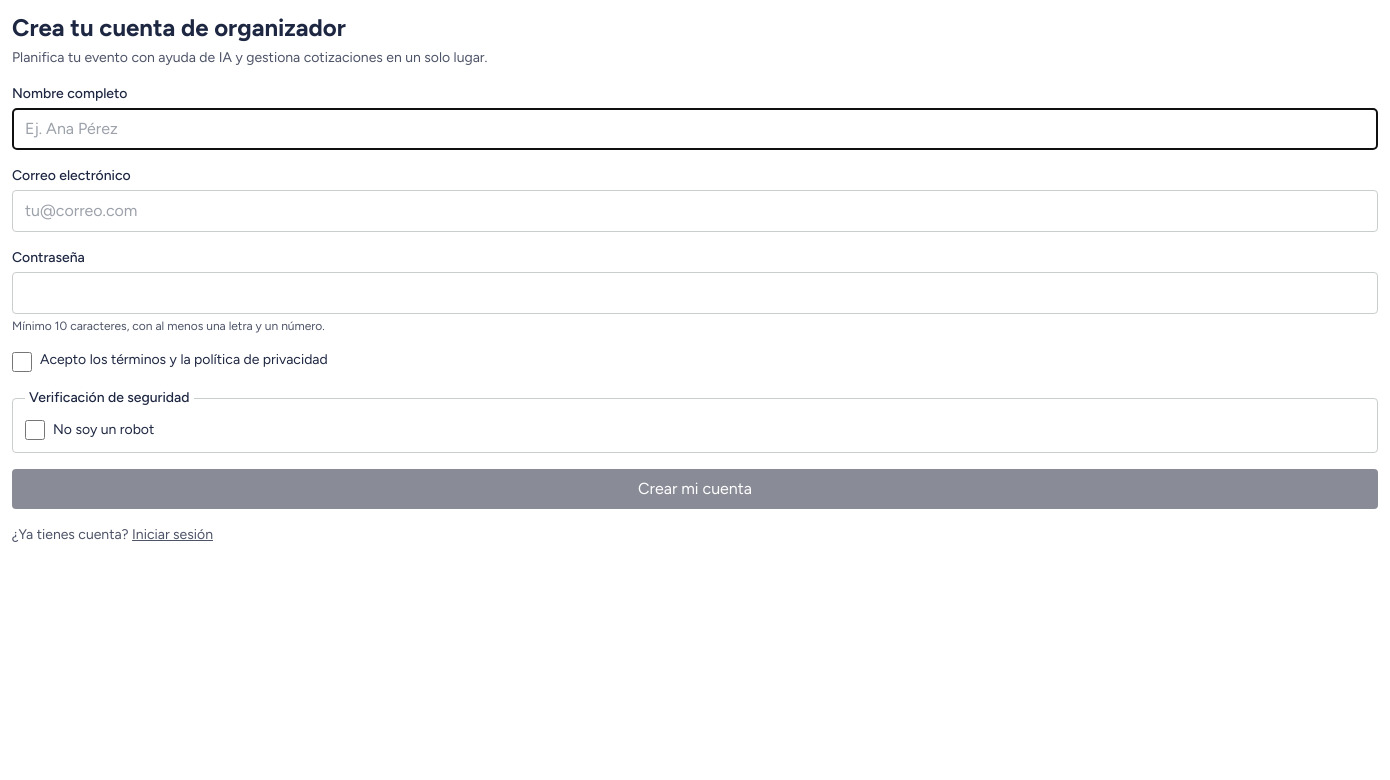
Test case: US-001 FE-002/FE-003 — estados y validación › submit deshabilitado hasta resolver el captcha (EC-01 preventivo)
Expected: the button "Crear mi cuenta" is disabled, [12,469,1378,509]
What coordinates should you click on to do the following:
click the checkbox labelled "No soy un robot"
I would click on:
 (35, 430)
Its box is [25,420,45,440].
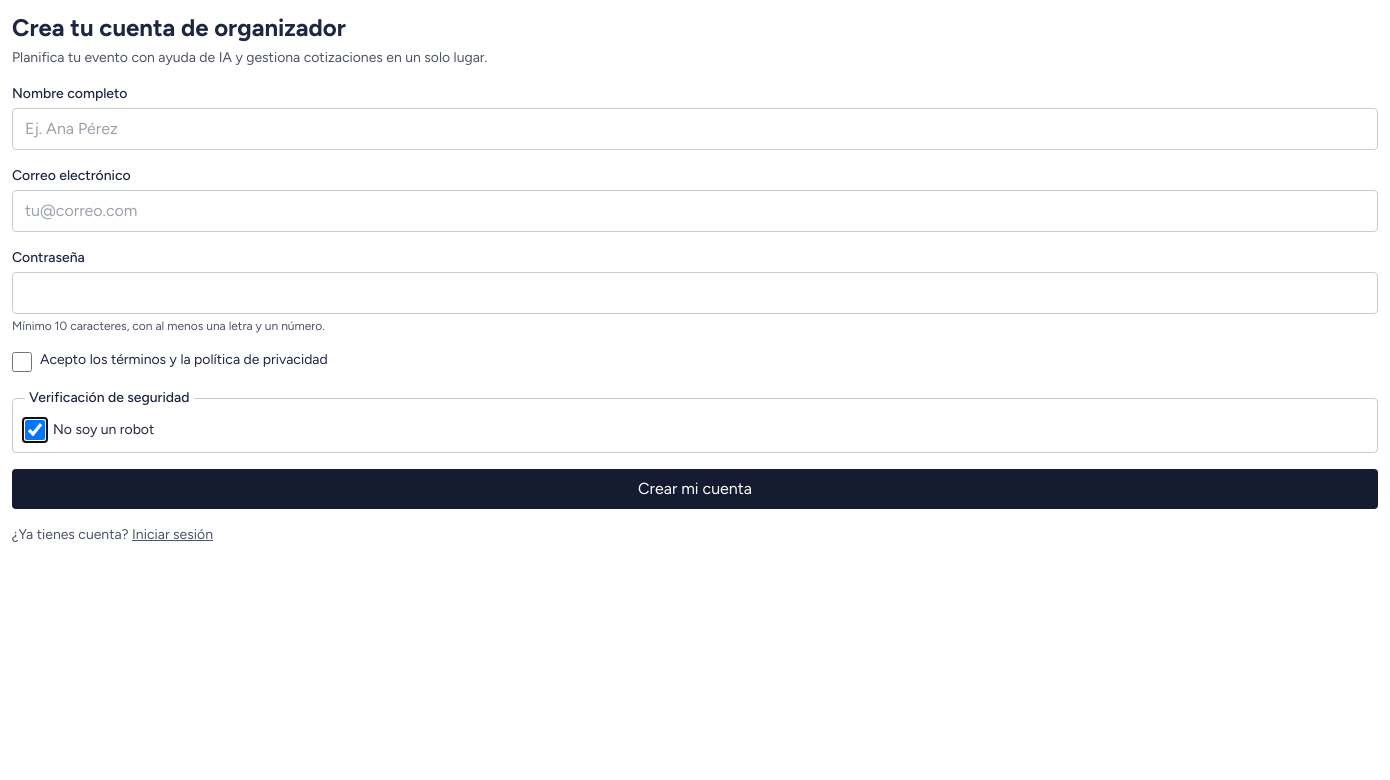
Result: the button "Crear mi cuenta" is enabled at [12,469,1378,509]
